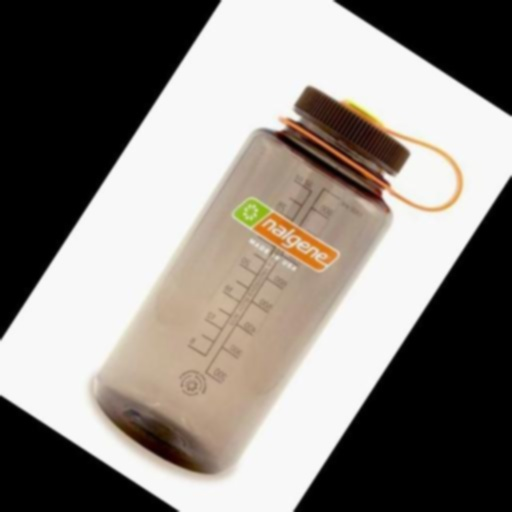bottle: (71, 66, 436, 498)
